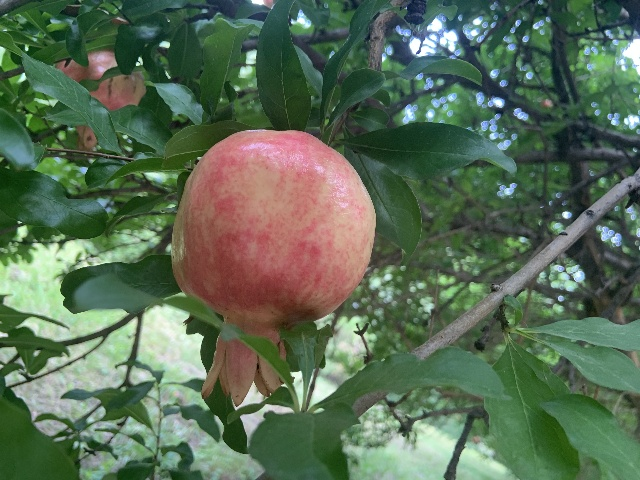ripe: (171, 128, 376, 407), (54, 50, 146, 149)
